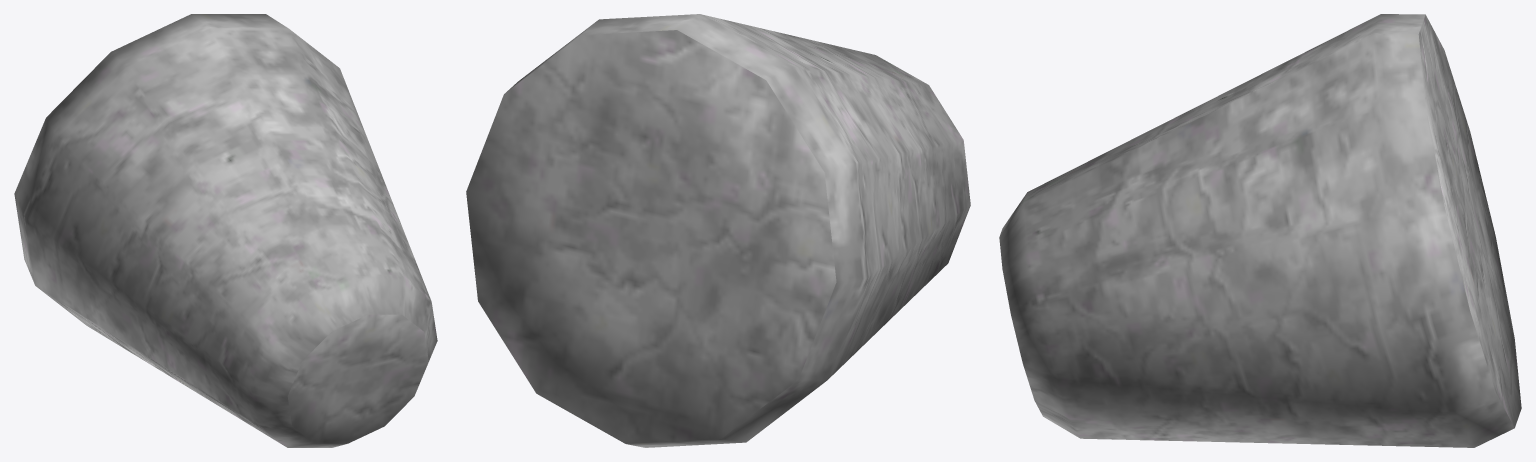
File: INST_HTOWN_MILLGRINDER.fbx
The picture shows the model from 3 angles, left to right: view 1: azimuth 30°, elevation 25°; view 2: azimuth 150°, elevation 25°; view 3: azimuth 270°, elevation 25°; orthographic projection. The views are drawn at different scales.
Visible parts, largest first — view 1: INST_HTOWN_MILLGRINDER; view 2: INST_HTOWN_MILLGRINDER; view 3: INST_HTOWN_MILLGRINDER.
Part boxes in pixels (x1,y1,x2,y2): INST_HTOWN_MILLGRINDER: (14, 14, 437, 447); INST_HTOWN_MILLGRINDER: (466, 14, 970, 447); INST_HTOWN_MILLGRINDER: (999, 14, 1521, 447).
Bounding box in the file's own units: 15010 × 14585 × 17576.
Materials: 1 (1 with a texture image).
